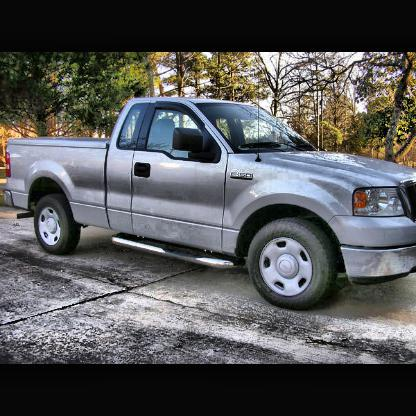Ford F-150 Regular Cab 2007: (8, 99, 416, 311)
